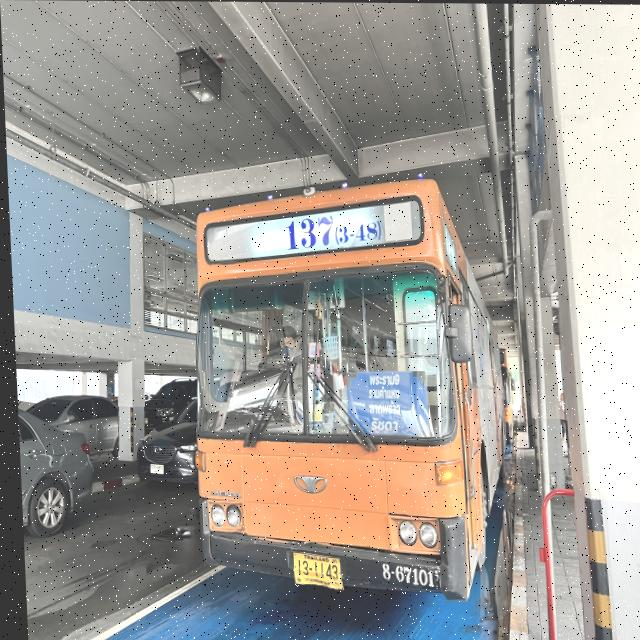BMTA-bus: (190, 177, 504, 603)
Bus Line Number: (280, 207, 381, 253)
Bus Side Number: (372, 559, 434, 590)
Destination Sign: (340, 369, 426, 438)
